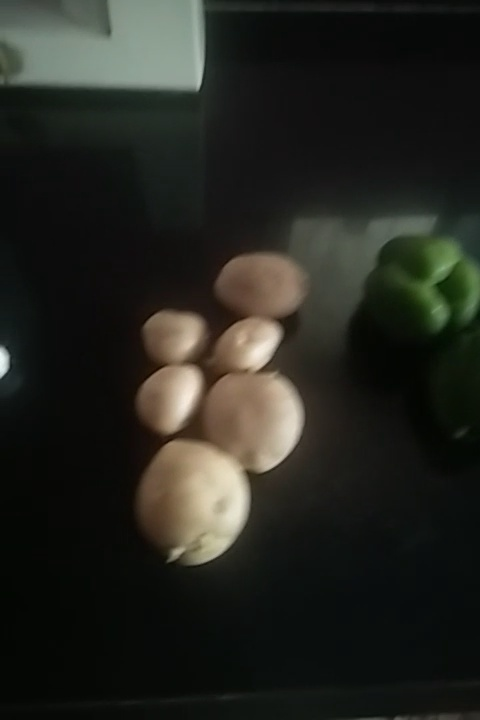capsicum: (375, 234, 478, 332)
potato: (143, 439, 242, 561), (191, 370, 303, 467), (211, 248, 314, 317), (128, 358, 204, 435), (214, 313, 296, 373), (140, 305, 215, 356)
